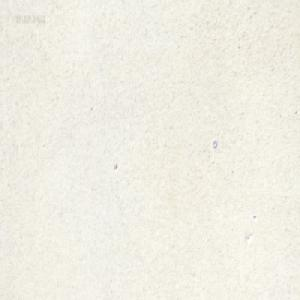Washer: (211, 139, 216, 148)
